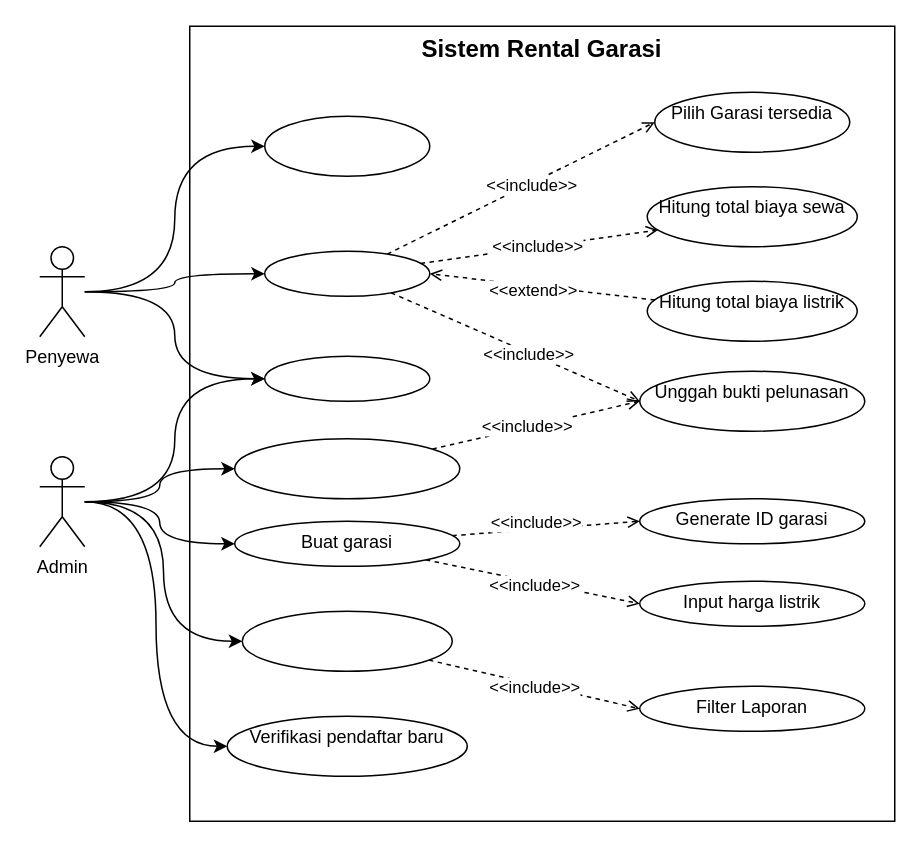
Some shapes in this 921 by 848 pixel diagram are drawn without their labels. The shapes that lost their labels are listed below. From the top down, each one's box as (x1, y1, x2, y2) in pixels, then its label:
(263, 115, 430, 176): Registrasi penyewa
(263, 250, 430, 296): Sewa garasi
(263, 355, 430, 401): Login
(233, 437, 460, 499): Perpanjang status garasi
(241, 610, 452, 671): Lihat laporan penyewaan
